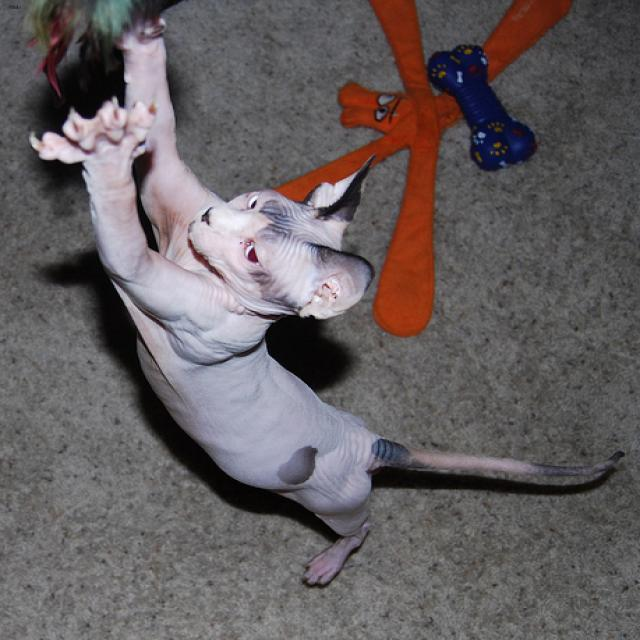Sphynx: (186, 153, 383, 324)
